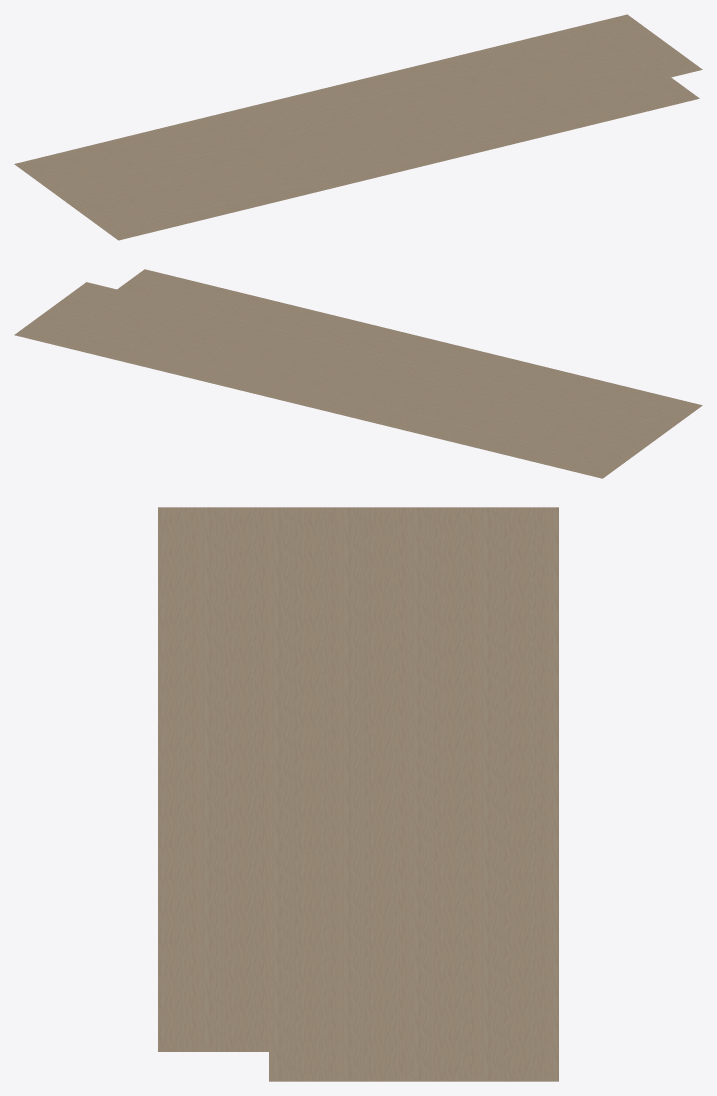
The model's file is kd_stage_135b75_4_2_bounded_portal_piece_5.glb.
3 renders of one model, top to bottom at view 1: azimuth 30°, elevation 25°; view 2: azimuth 150°, elevation 25°; view 3: azimuth 270°, elevation 25°, orthographic. The views are drawn at different scales.
Parts seen in each view (by area): view 1: kd_stage_135b75_4_2_bounded_portal_piece_5; view 2: kd_stage_135b75_4_2_bounded_portal_piece_5; view 3: kd_stage_135b75_4_2_bounded_portal_piece_5.
Part boxes in pixels (bbox=[...]): kd_stage_135b75_4_2_bounded_portal_piece_5: bbox=[14, 14, 702, 240]; kd_stage_135b75_4_2_bounded_portal_piece_5: bbox=[14, 269, 702, 478]; kd_stage_135b75_4_2_bounded_portal_piece_5: bbox=[158, 507, 558, 1081].
Bounding box in the file's own units: 2 × 1.49e-07 × 0.59.
1 material, 1 textured.
